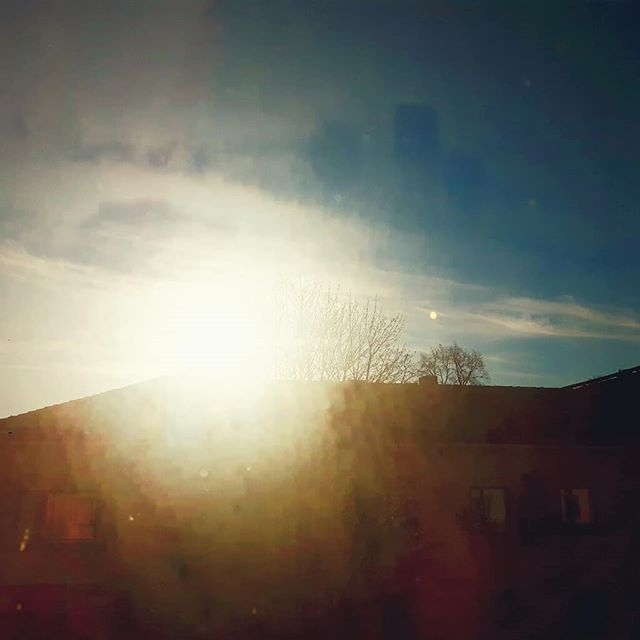building: (12, 382, 640, 640)
sky: (8, 1, 640, 374)
sun: (150, 275, 270, 391)
